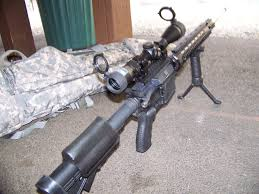gun: (34, 2, 221, 191)
